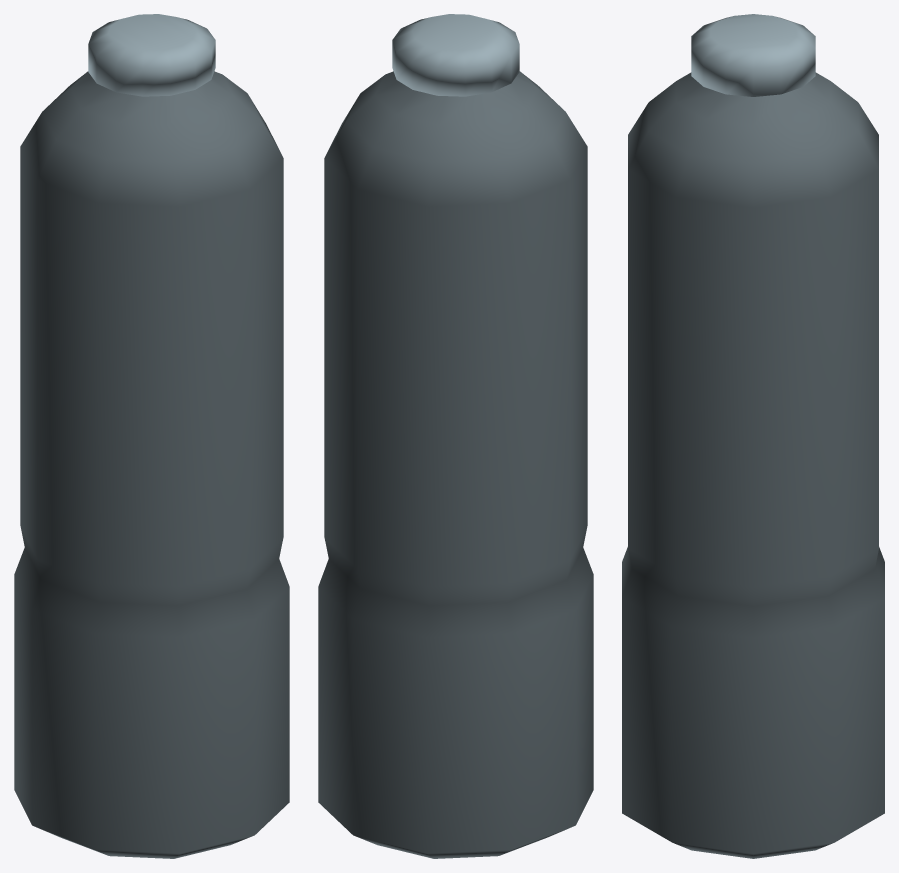
Rendered from Plastic_Bottle.fbx.
The picture shows the model from 3 angles, left to right: view 1: azimuth 30°, elevation 25°; view 2: azimuth 150°, elevation 25°; view 3: azimuth 270°, elevation 25°; orthographic projection.
Parts seen in each view (by area): view 1: pCylinder55; view 2: pCylinder55; view 3: pCylinder55.
Part boxes in pixels (x1,y1,x2,y2): pCylinder55: [14, 14, 289, 858]; pCylinder55: [318, 14, 593, 858]; pCylinder55: [622, 14, 884, 858].
Bounding box in the file's own units: 11.98 × 37.39 × 11.39.
